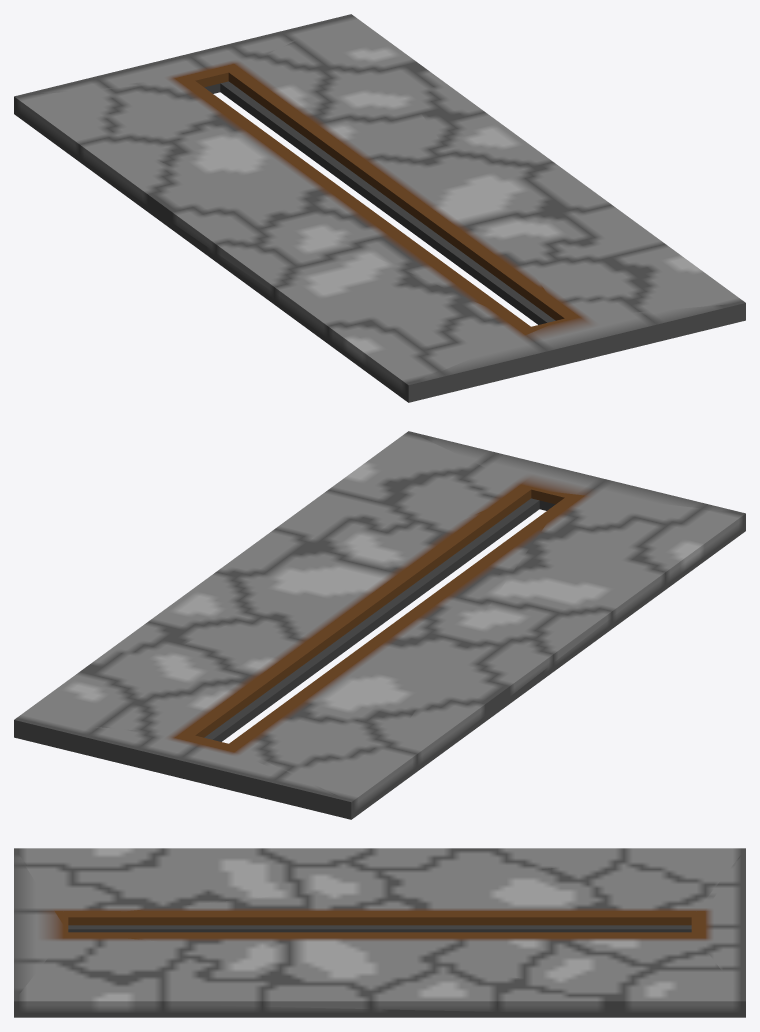
File: FloorForSaw.fbx
The picture shows the model from 3 angles, top to bottom: view 1: azimuth 30°, elevation 25°; view 2: azimuth 150°, elevation 25°; view 3: azimuth 270°, elevation 25°; orthographic projection. The views are drawn at different scales.
Parts seen in each view (by area): view 1: floorforsaw.floorforsaw-0; view 2: floorforsaw.floorforsaw-0; view 3: floorforsaw.floorforsaw-0.
Boxes of the visible parts, left/top/right/bottom form: floorforsaw.floorforsaw-0: left=14, top=14, right=745, bottom=402; floorforsaw.floorforsaw-0: left=14, top=431, right=745, bottom=819; floorforsaw.floorforsaw-0: left=14, top=848, right=745, bottom=1017.
Size of the model in its own units: 400 by 20 by 810.
